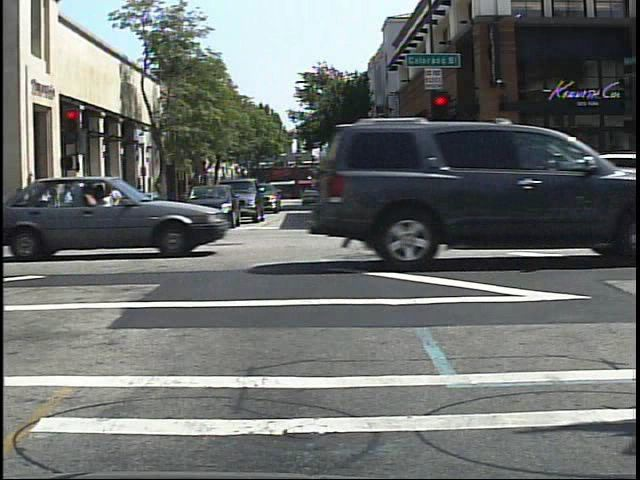person: (105, 180, 125, 227)
